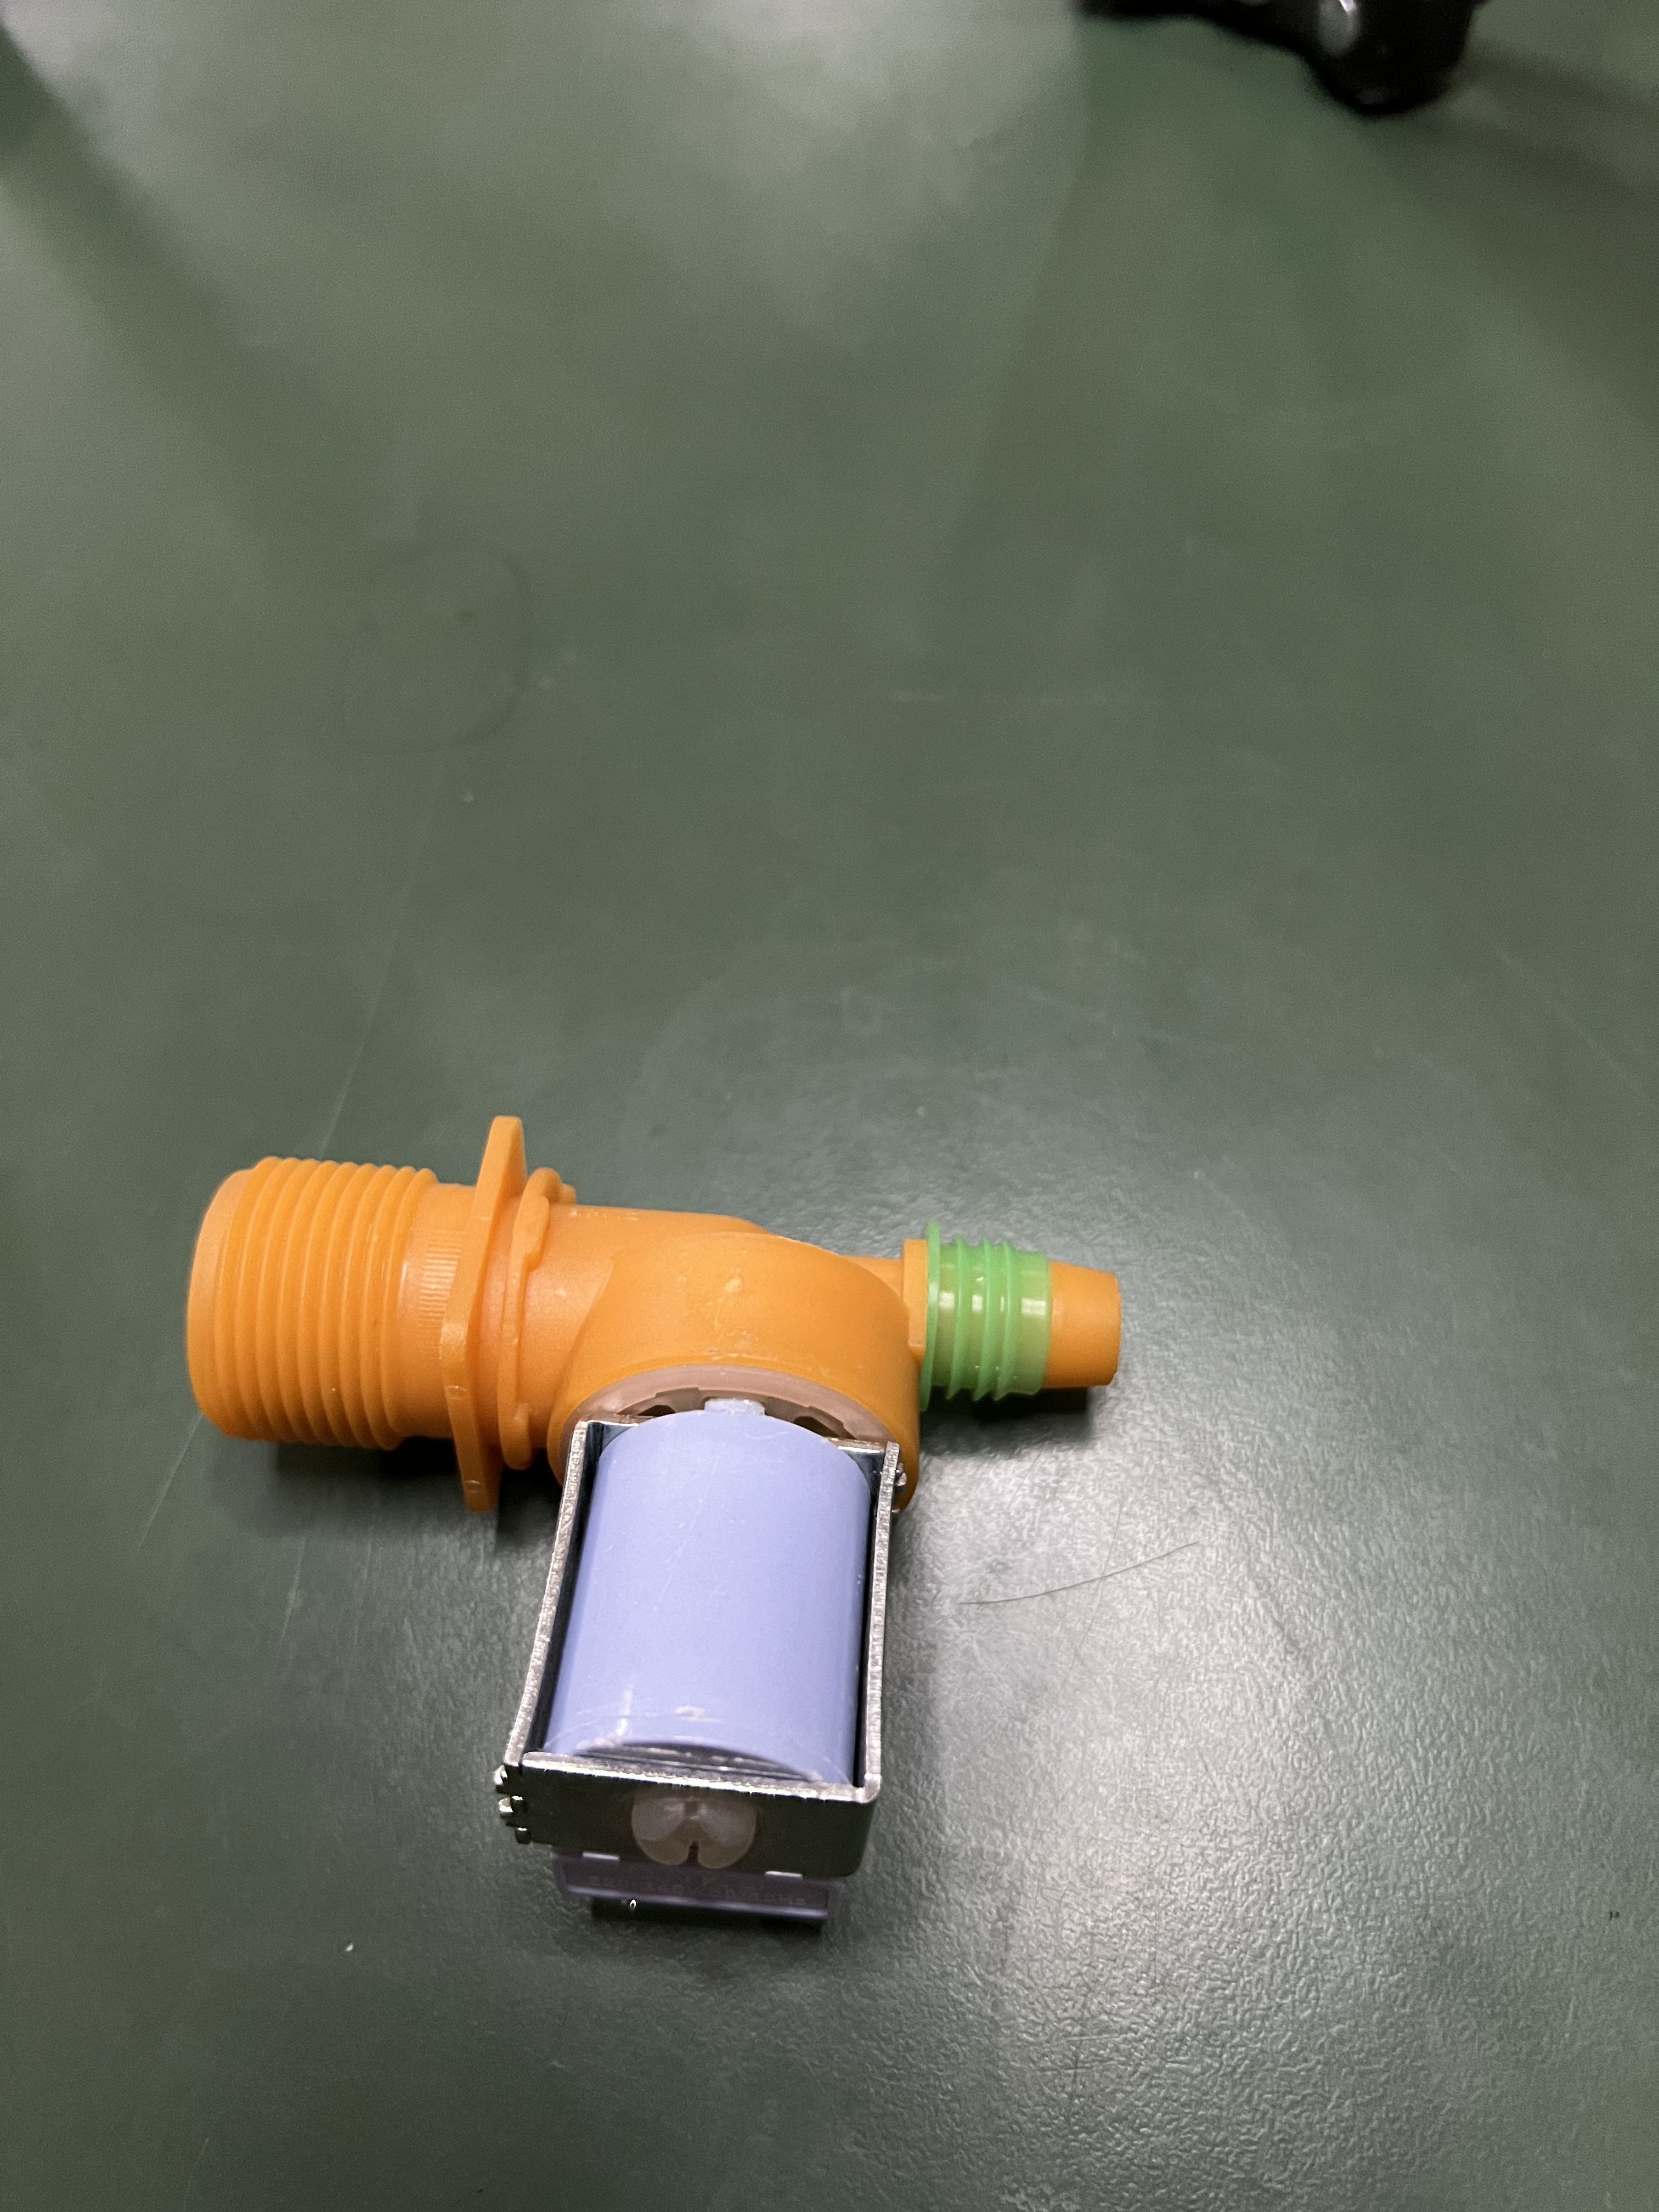ss_inlet_valves: (159, 1132, 1164, 1954)
